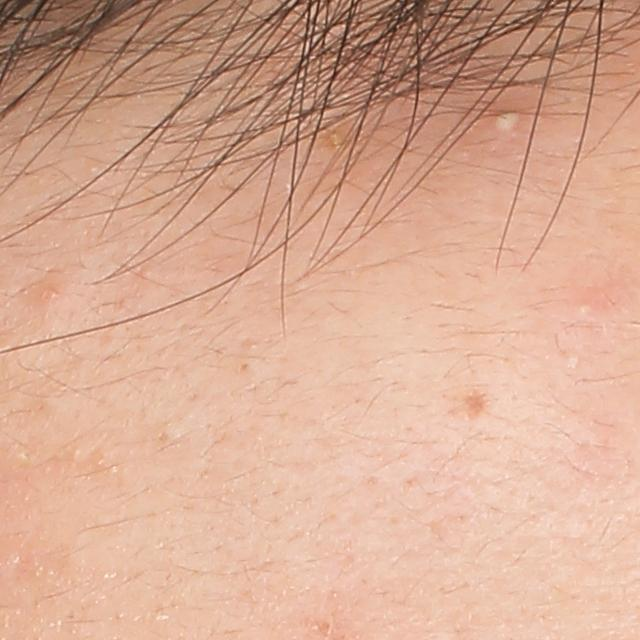pustule: (488, 104, 523, 133)
